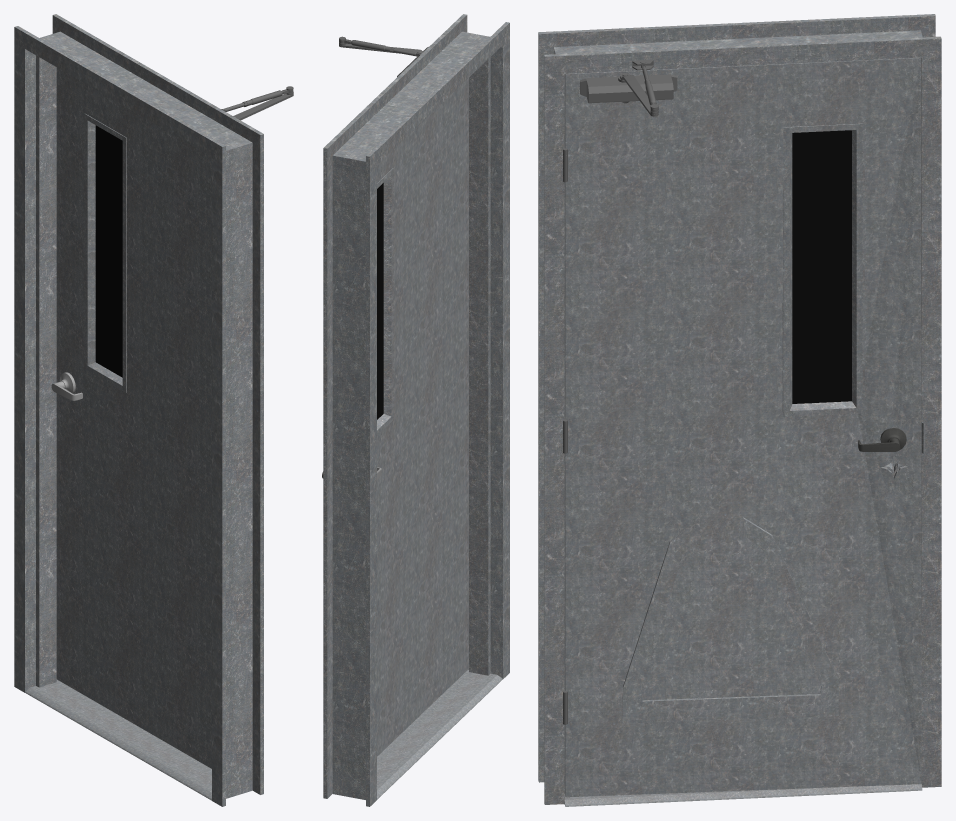
File: puerta_panico.fbx
The picture shows the model from 3 angles, left to right: view 1: azimuth 30°, elevation 25°; view 2: azimuth 150°, elevation 25°; view 3: azimuth 270°, elevation 25°; orthographic projection. The views are drawn at different scales.
Visible parts, largest first — view 1: puerta, soporte_puerta, floor_plate_004; view 2: soporte_puerta, puerta, floor_plate_004; view 3: puerta, soporte_puerta, floor_plate_004.
Part boxes in pixels (left/top/right/bottom): puerta: left=51, top=67, right=293, bottom=768; soporte_puerta: left=14, top=14, right=263, bottom=806; floor_plate_004: left=25, top=679, right=211, bottom=800; soporte_puerta: left=323, top=14, right=509, bottom=806; puerta: left=322, top=36, right=468, bottom=756; floor_plate_004: left=377, top=669, right=502, bottom=799; puerta: left=563, top=57, right=921, bottom=797; soporte_puerta: left=538, top=14, right=941, bottom=804; floor_plate_004: left=564, top=784, right=922, bottom=806.
Size of the model in its own units: 1.56 by 6.36 by 3.11.
5 materials, 2 textured.
